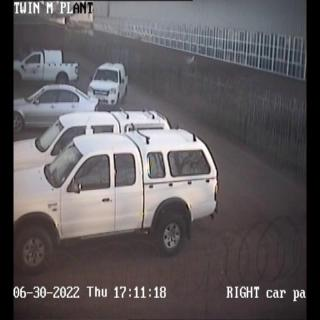car: (13, 128, 217, 273), (13, 109, 170, 170), (13, 85, 98, 131), (15, 48, 78, 84), (88, 62, 129, 105)
